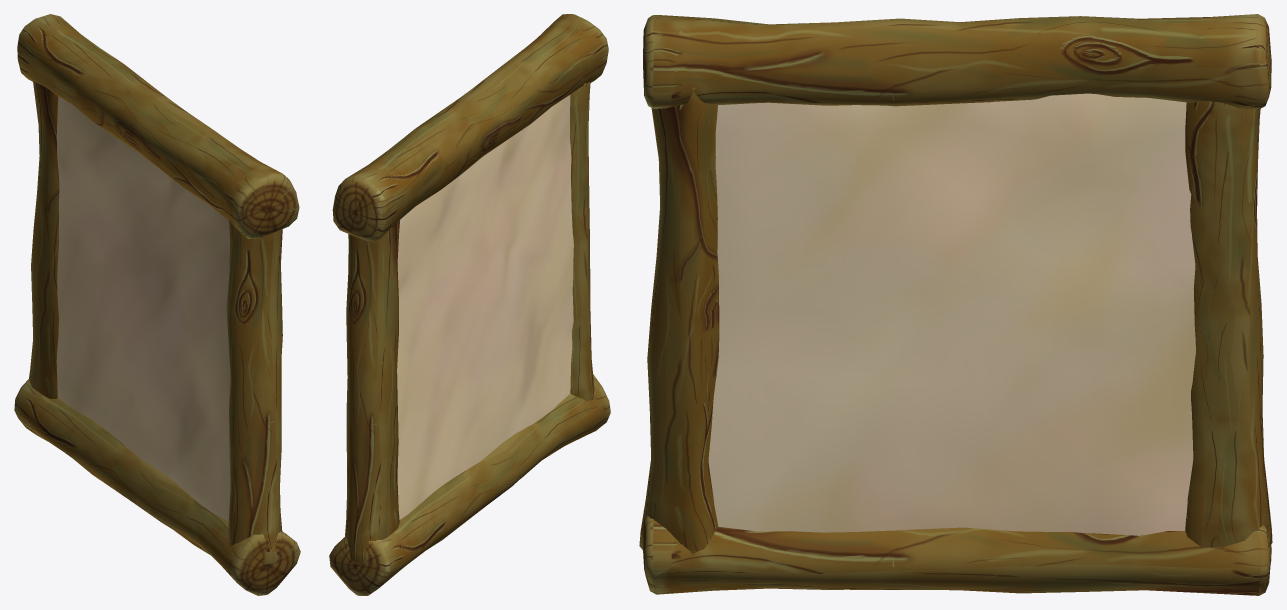
The model's file is Textured_wall_111.fbx.
3 renders of one model, left to right at view 1: azimuth 30°, elevation 25°; view 2: azimuth 150°, elevation 25°; view 3: azimuth 270°, elevation 25°, orthographic. The views are drawn at different scales.
Visible parts, largest first — view 1: BaseWall.049, Cube.011, Cube.009, Cube.010, Cube.008; view 2: BaseWall.049, Cube.011, Cube.008, Cube.010, Cube.009; view 3: BaseWall.049, Cube.011, Cube.010, Cube.008, Cube.009.
Part boxes in pixels (x1=…): BaseWall.049: x1=56, y1=96, x2=230, y2=521; Cube.011: x1=17, y1=14, x2=299, y2=238; Cube.009: x1=226, y1=220, x2=282, y2=564; Cube.010: x1=14, y1=379, x2=300, y2=595; Cube.008: x1=28, y1=81, x2=59, y2=398; BaseWall.049: x1=397, y1=95, x2=573, y2=519; Cube.011: x1=332, y1=14, x2=608, y2=241; Cube.008: x1=345, y1=220, x2=399, y2=564; Cube.010: x1=329, y1=374, x2=610, y2=595; Cube.009: x1=570, y1=82, x2=594, y2=400; BaseWall.049: x1=708, y1=93, x2=1195, y2=535; Cube.011: x1=643, y1=14, x2=1271, y2=108; Cube.010: x1=643, y1=516, x2=1271, y2=595; Cube.008: x1=1185, y1=101, x2=1272, y2=547; Cube.009: x1=639, y1=87, x2=719, y2=555.
Size of the model in its own units: 0.3921 by 2.37 by 2.35.
